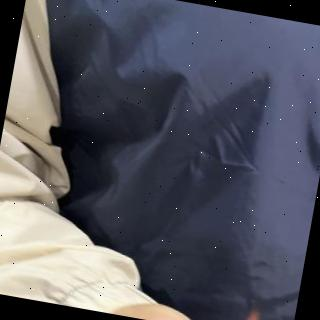fire: (240, 309, 265, 320)
